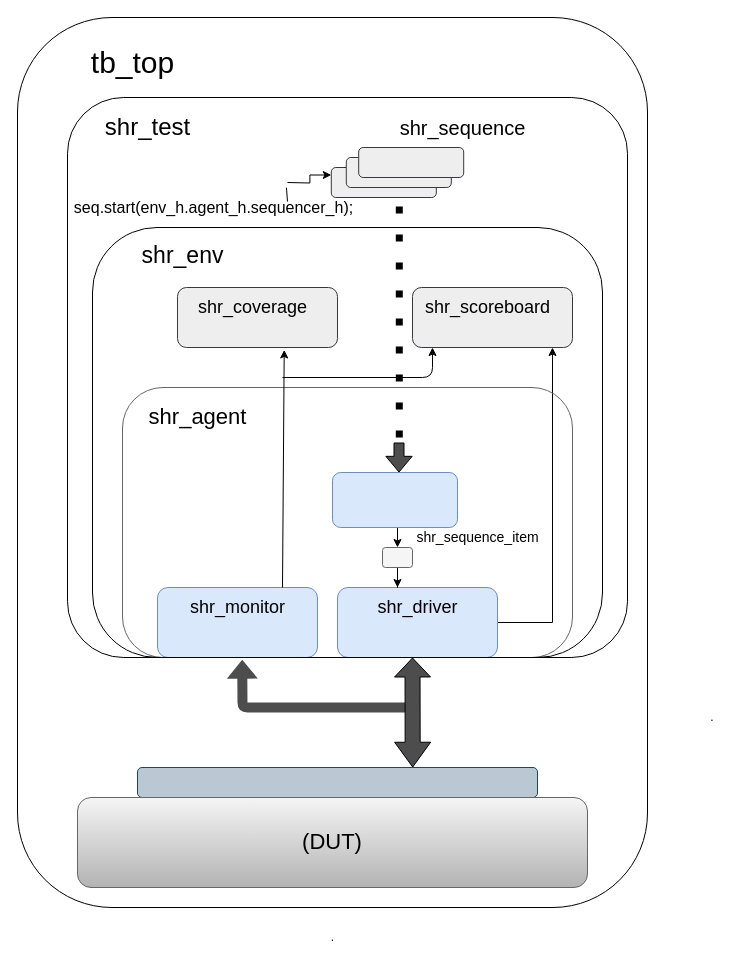
Some shapes in this 750 by 965 pixel diagram are drawn without their labels. Each missing label, with the centre of its shape:
"interface" belongs at [337,782].
"shr_sequencer" belongs at [395,500].
